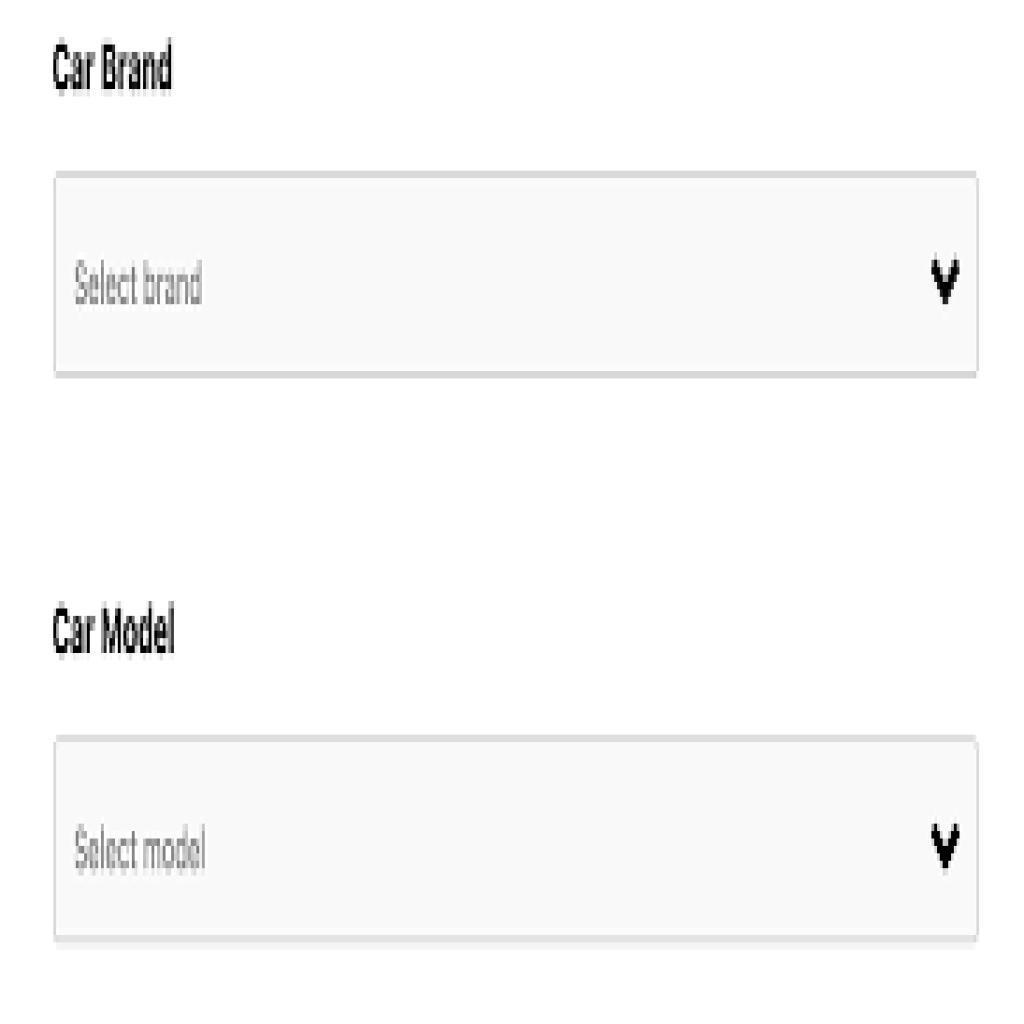dropdown: (54, 171, 983, 381), (54, 734, 979, 942)
